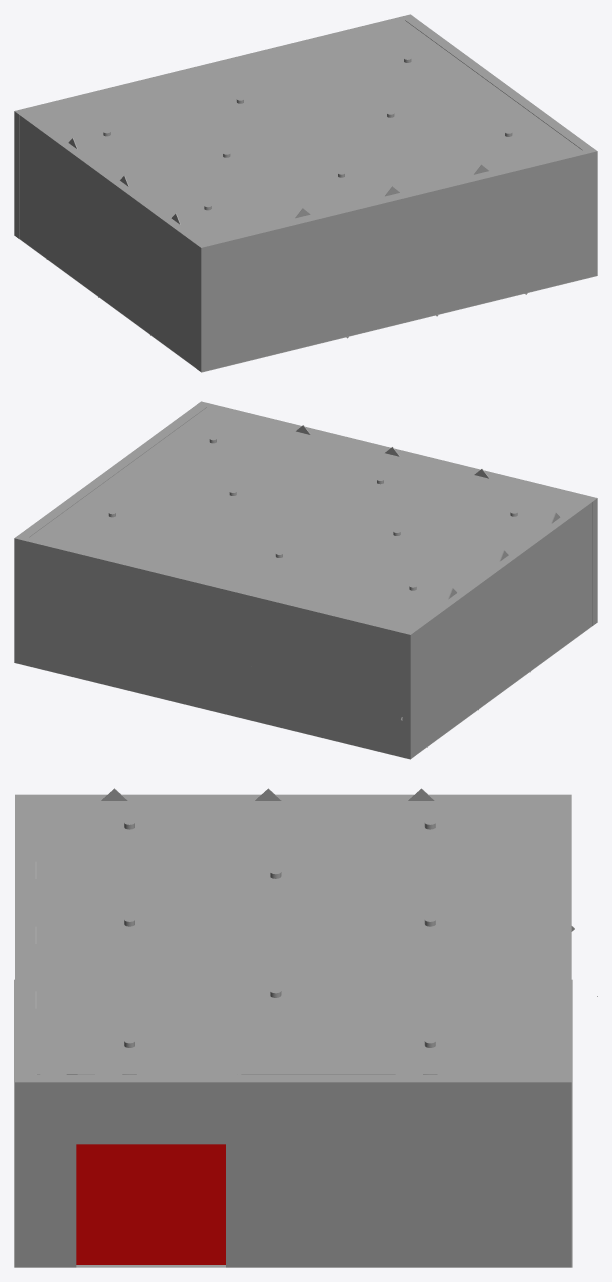
The model's file is BgMDyakuzaisitu_ChemicalsRoom_0101.fbx.
The picture shows the model from 3 angles, top to bottom: view 1: azimuth 30°, elevation 25°; view 2: azimuth 150°, elevation 25°; view 3: azimuth 270°, elevation 25°; orthographic projection. The views are drawn at different scales.
Visible parts, largest first — view 1: yakuzaisitu; view 2: yakuzaisitu; view 3: yakuzaisitu.
Boxes of the visible parts, left/top/right/bottom form: yakuzaisitu: left=14, top=14, right=597, bottom=372; yakuzaisitu: left=14, top=401, right=597, bottom=759; yakuzaisitu: left=14, top=788, right=597, bottom=1267.
Bounding box in the file's own units: 1000 × 340 × 857.
